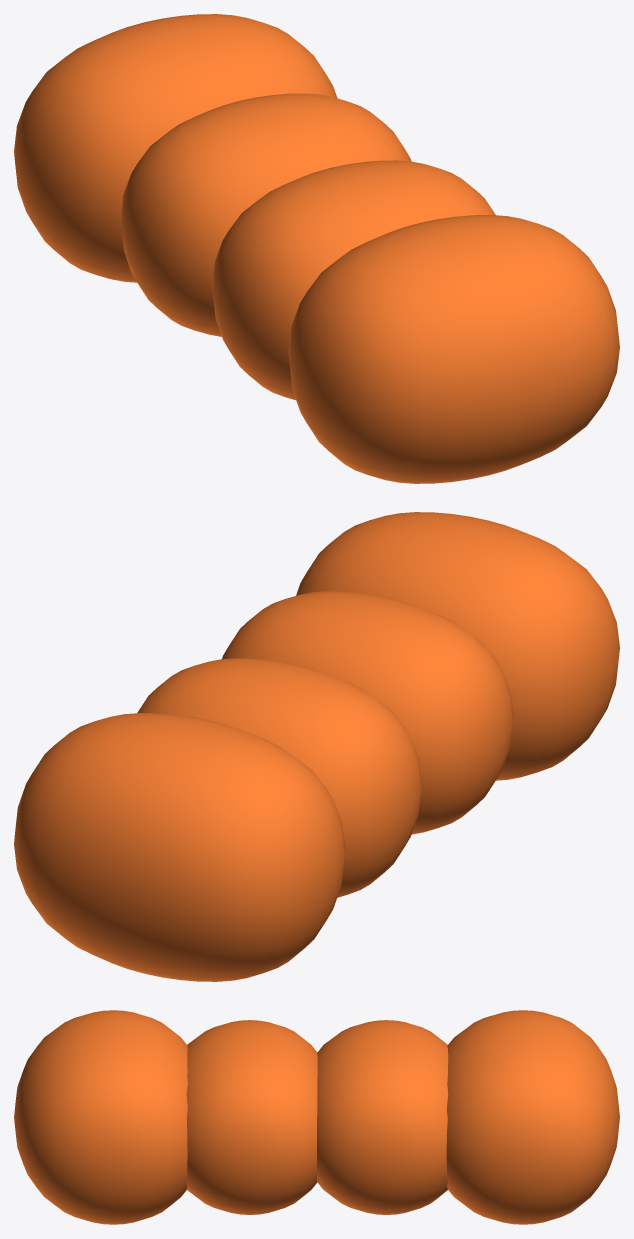
File: cinnamon_twist.fbx
3 views of the same model, one above another, from view 1: azimuth 30°, elevation 25°; view 2: azimuth 150°, elevation 25°; view 3: azimuth 270°, elevation 25° (orthographic). The views are drawn at different scales.
Visible parts, largest first — view 1: cinnamon twist.001; view 2: cinnamon twist.001; view 3: cinnamon twist.001.
Boxes of the visible parts, x1,y1,x2,y2 form: cinnamon twist.001: [14, 14, 619, 483]; cinnamon twist.001: [14, 512, 619, 981]; cinnamon twist.001: [14, 1010, 619, 1224].
Size of the model in its own units: 141 by 106 by 341.
